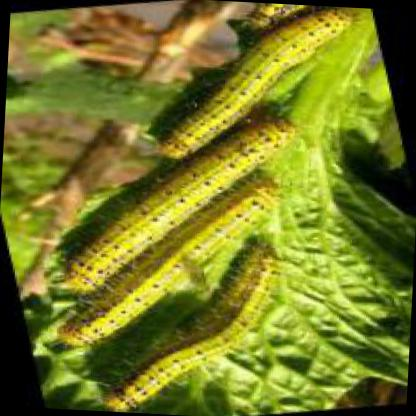pieris: (63, 117, 298, 295), (62, 175, 276, 345), (105, 236, 280, 408), (155, 9, 354, 160)
